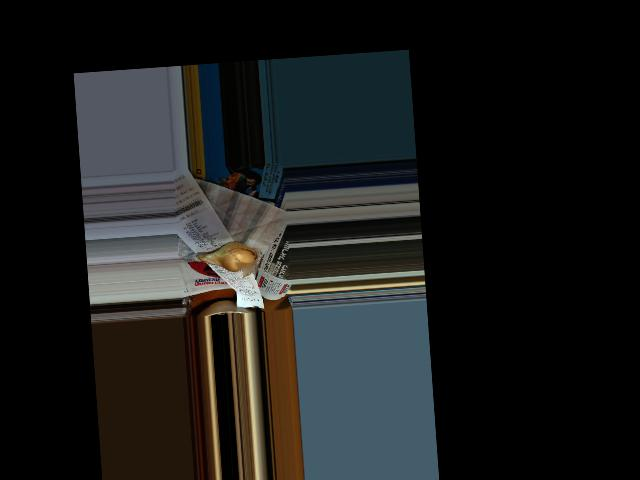onion: (199, 239, 256, 272)
